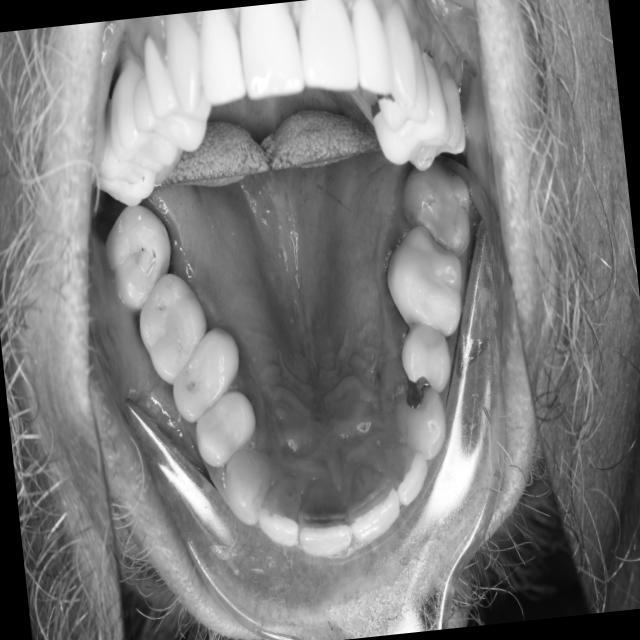tooth: (124, 258, 219, 393), (374, 215, 473, 344), (96, 192, 183, 321), (390, 153, 484, 264), (163, 318, 251, 431), (181, 385, 265, 474), (289, 467, 358, 571), (334, 454, 406, 552), (383, 373, 458, 465), (215, 435, 281, 532), (392, 310, 460, 400), (377, 426, 436, 511), (251, 466, 307, 551)
